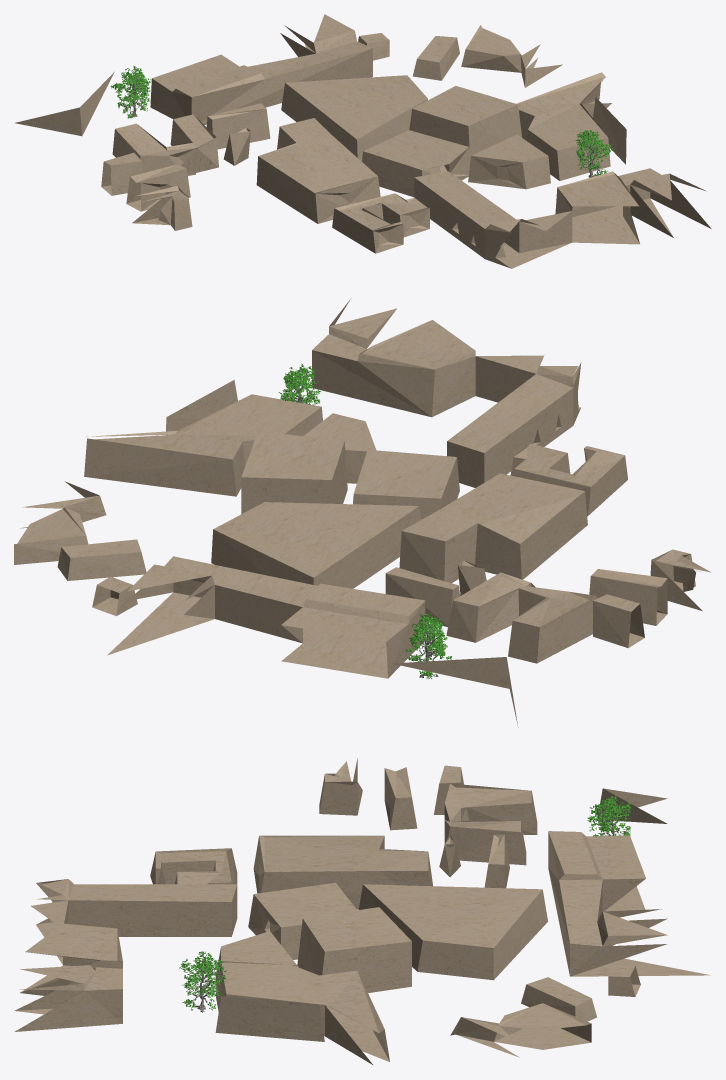
File: tile_0_-1.gltf
3 views of the same model, one above another, from view 1: azimuth 30°, elevation 25°; view 2: azimuth 150°, elevation 25°; view 3: azimuth 270°, elevation 25° (orthographic). The views are drawn at different scales.
Parts seen in each view (by area): view 1: Plane.011@tile_0_-1, Bodhi Tree_Bodhi_front_2_Mat_0.044@tile_0_-1; view 2: Plane.011@tile_0_-1, Bodhi Tree_Bodhi_front_2_Mat_0.044@tile_0_-1; view 3: Plane.011@tile_0_-1, Bodhi Tree_Bodhi_front_2_Mat_0.044@tile_0_-1.
Boxes of the visible parts, <box> form: Plane.011@tile_0_-1: <box>15,14,711,268</box>; Bodhi Tree_Bodhi_front_2_Mat_0.044@tile_0_-1: <box>110,65,614,177</box>; Plane.011@tile_0_-1: <box>14,299,711,727</box>; Bodhi Tree_Bodhi_front_2_Mat_0.044@tile_0_-1: <box>278,363,451,678</box>; Plane.011@tile_0_-1: <box>14,758,710,1064</box>; Bodhi Tree_Bodhi_front_2_Mat_0.044@tile_0_-1: <box>179,795,630,1012</box>.
Bounding box in the file's own units: 107 × 11.25 × 115.
Materials: 3 (2 with a texture image).
